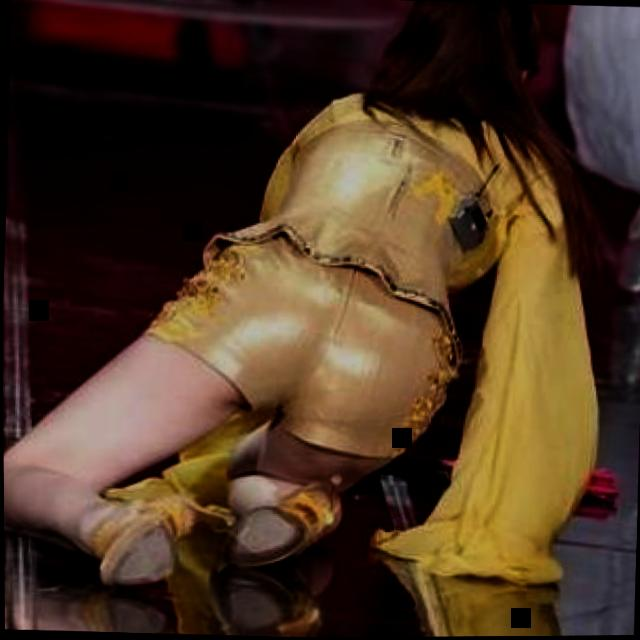Fall-Detected: (1, 0, 640, 636)
